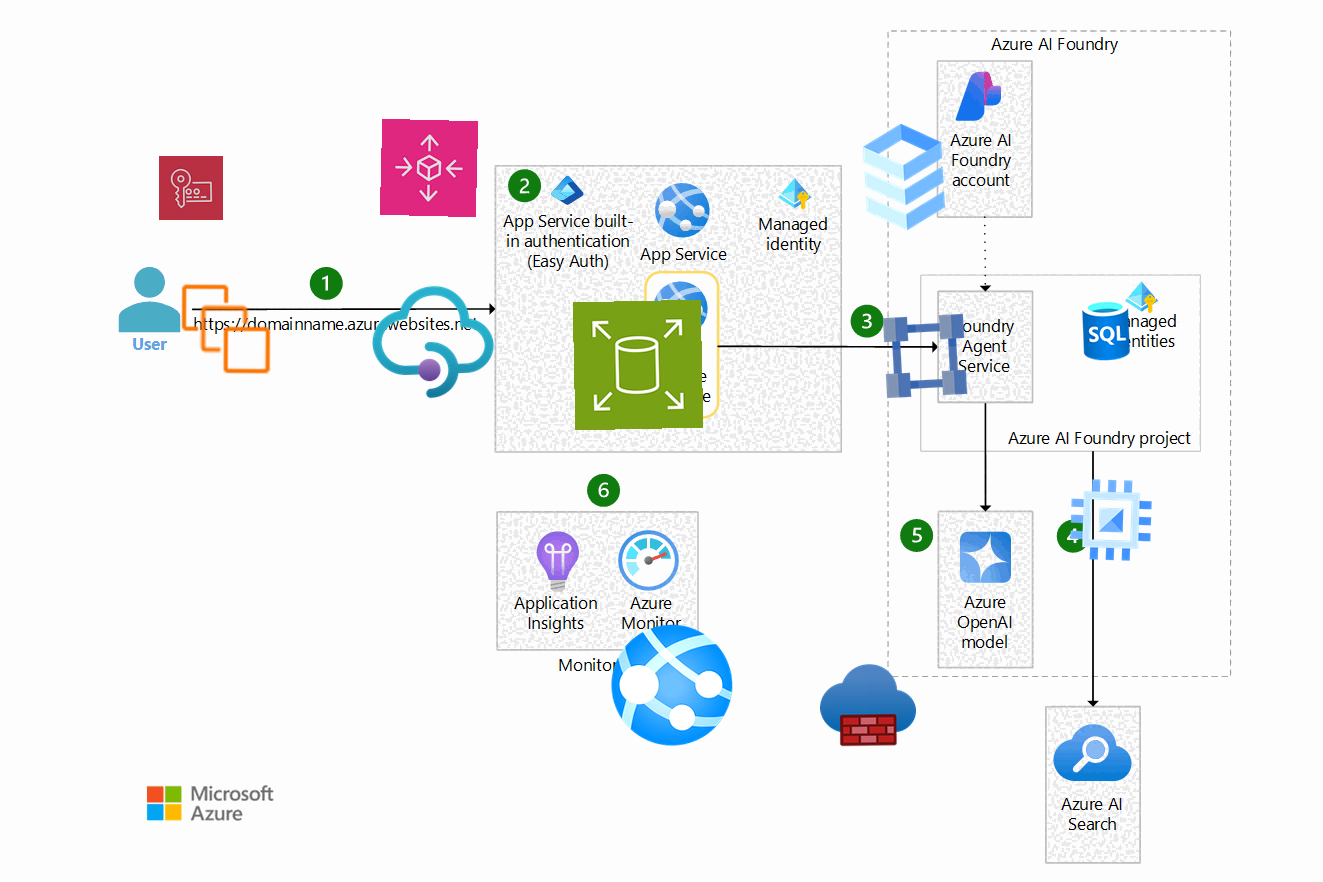aws_amazon_elastic_block_store: (572, 299, 704, 431)
aws_auto_scaling: (379, 118, 479, 218)
aws_ec2_instances: (177, 280, 275, 378)
aws_key_management_service: (158, 155, 224, 221)
azure_api_management_services: (366, 275, 500, 409)
azure_app_services: (604, 617, 740, 753)
azure_firewalls: (819, 656, 917, 754)
azure_sql_database: (1072, 296, 1140, 364)
gcp_cloud_sql: (836, 109, 972, 245)
gcp_compute_engine: (1061, 470, 1161, 570)
gcp_virtual_private_cloud: (874, 305, 976, 407)
